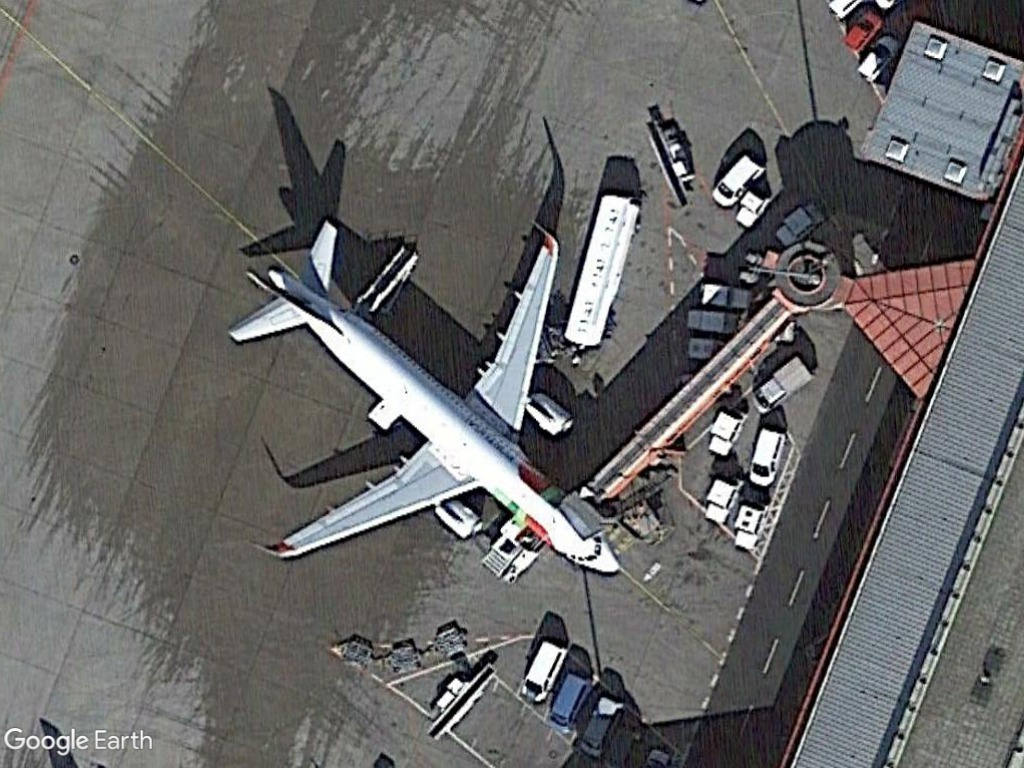airliner: (222, 204, 631, 588)
longvehicle: (559, 191, 645, 353)
stairtruck: (351, 240, 424, 318)
van: (516, 637, 570, 705), (706, 153, 769, 210), (745, 424, 787, 491), (855, 32, 903, 88)
